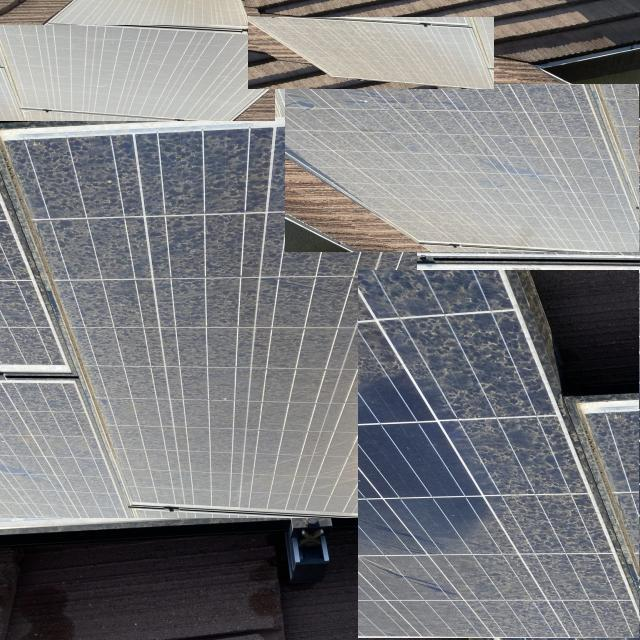Non Defective: (0, 118, 417, 518), (359, 271, 639, 638), (285, 85, 640, 252), (0, 26, 275, 121), (249, 18, 494, 89)
